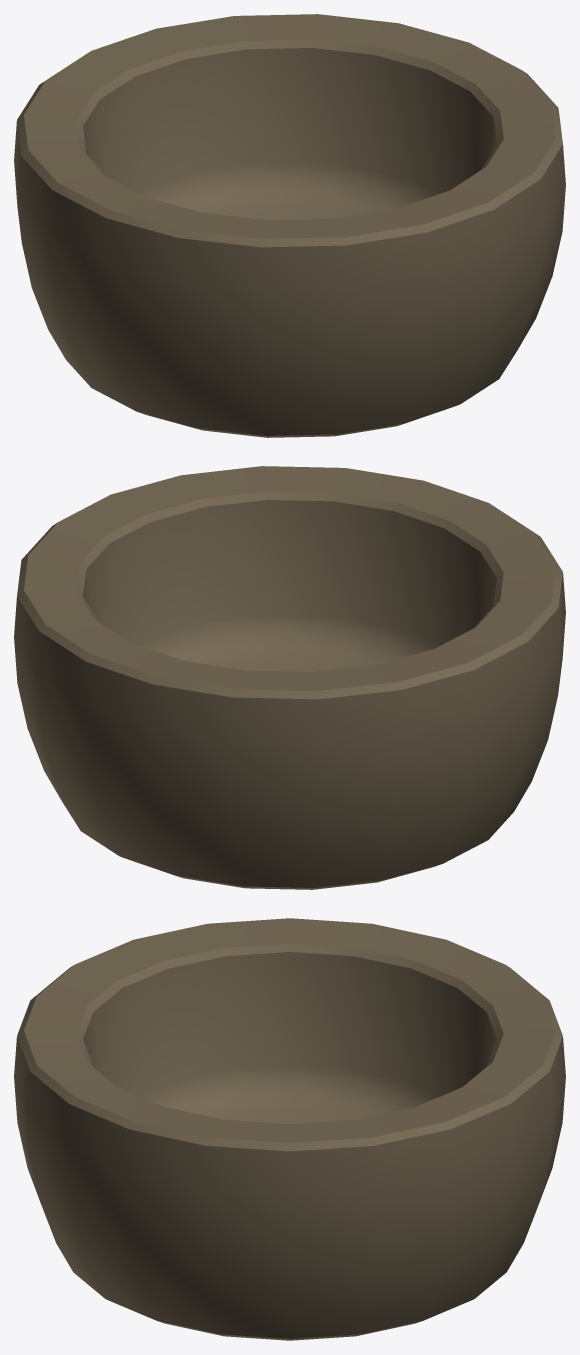
Rendered from SM_Bowl01.fbx.
3 views of the same model, one above another, from view 1: azimuth 30°, elevation 25°; view 2: azimuth 150°, elevation 25°; view 3: azimuth 270°, elevation 25° (orthographic).
Visible parts, largest first — view 1: pSphere14; view 2: pSphere14; view 3: pSphere14.
Part boxes in pixels (x1,y1,x2,y2): pSphere14: (14,14,565,437); pSphere14: (14,466,565,889); pSphere14: (14,918,565,1340).
Size of the model in its own units: 39.19 by 17.23 by 39.19.
